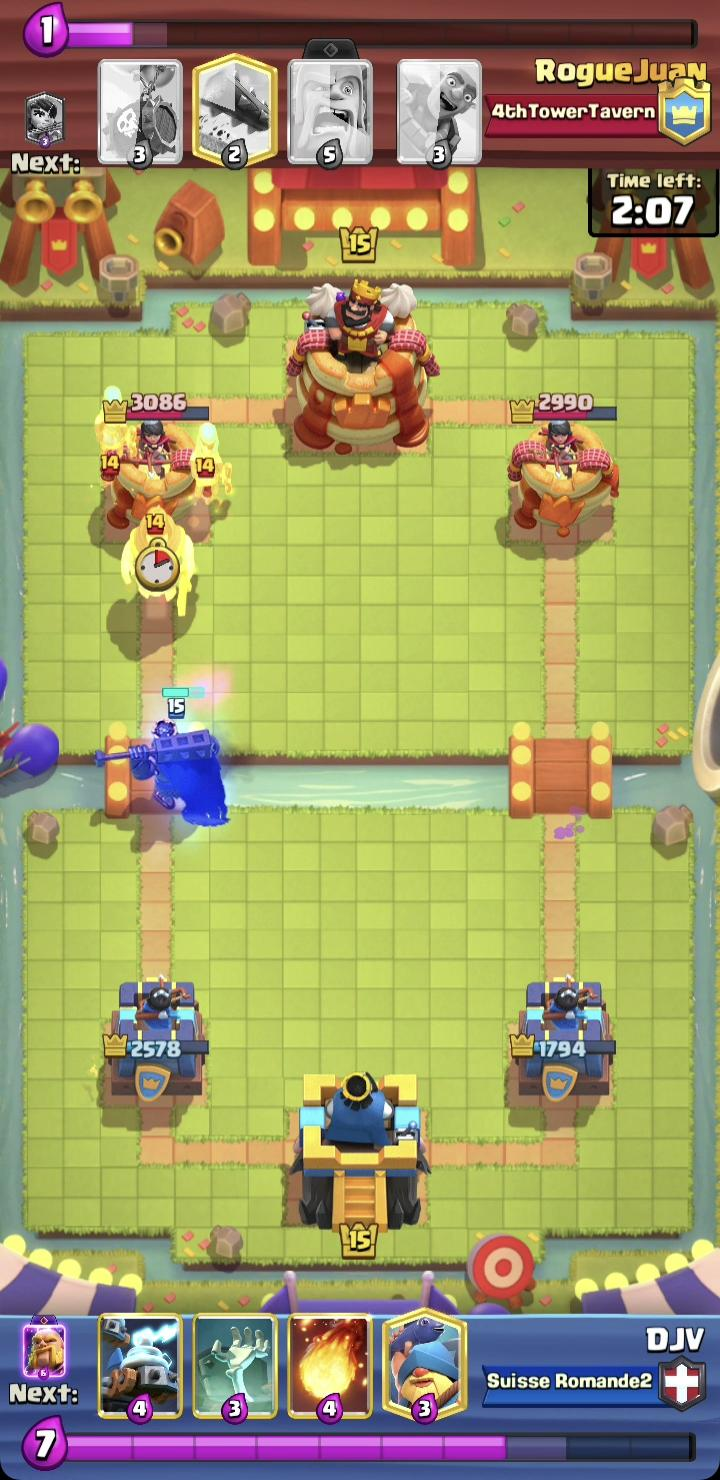ally_skeletonking: (93, 686, 232, 828)
enemy_rascalboy: (120, 504, 198, 619)
enemy_rascalgirl: (189, 420, 235, 509), (96, 382, 135, 480)
